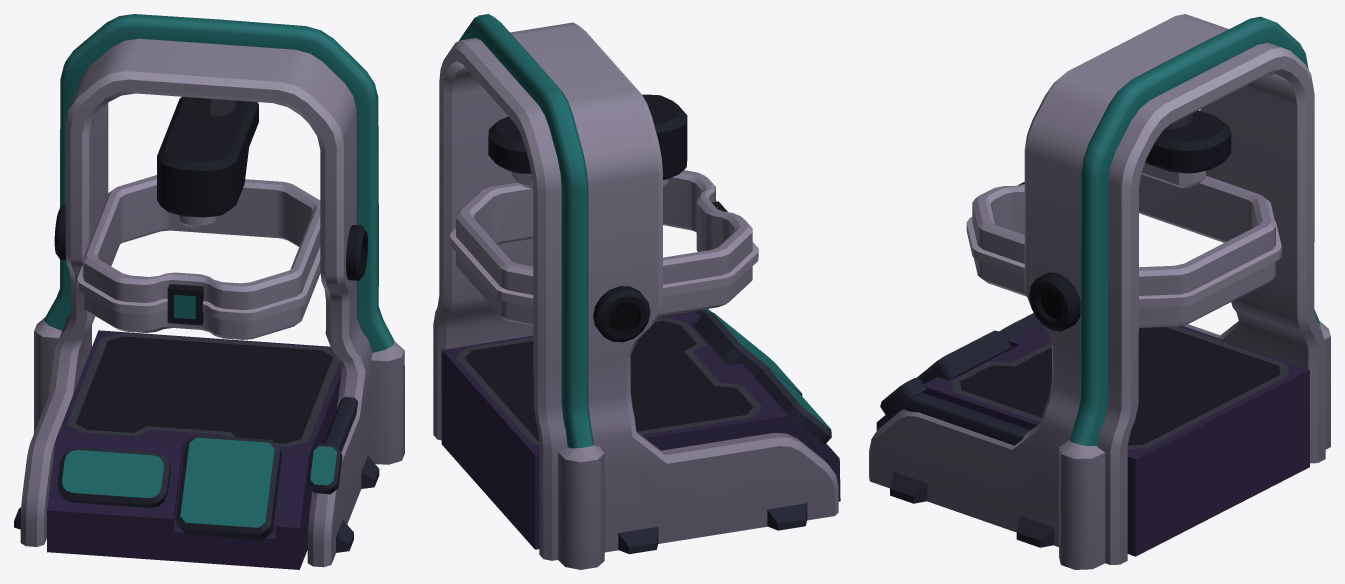
Rendered from Ufo_Stand_02.fbx.
3 views of the same model, side by side, from view 1: azimuth 30°, elevation 25°; view 2: azimuth 150°, elevation 25°; view 3: azimuth 270°, elevation 25° (orthographic). The views are drawn at different scales.
Visible parts, largest first — view 1: Ufo_Stand_02; view 2: Ufo_Stand_02; view 3: Ufo_Stand_02.
Boxes of the visible parts, bbox=[...] form: Ufo_Stand_02: bbox=[14, 14, 404, 569]; Ufo_Stand_02: bbox=[433, 14, 840, 569]; Ufo_Stand_02: bbox=[869, 14, 1330, 569].
Bounding box in the file's own units: 0.8016 × 0.8521 × 0.7883.
